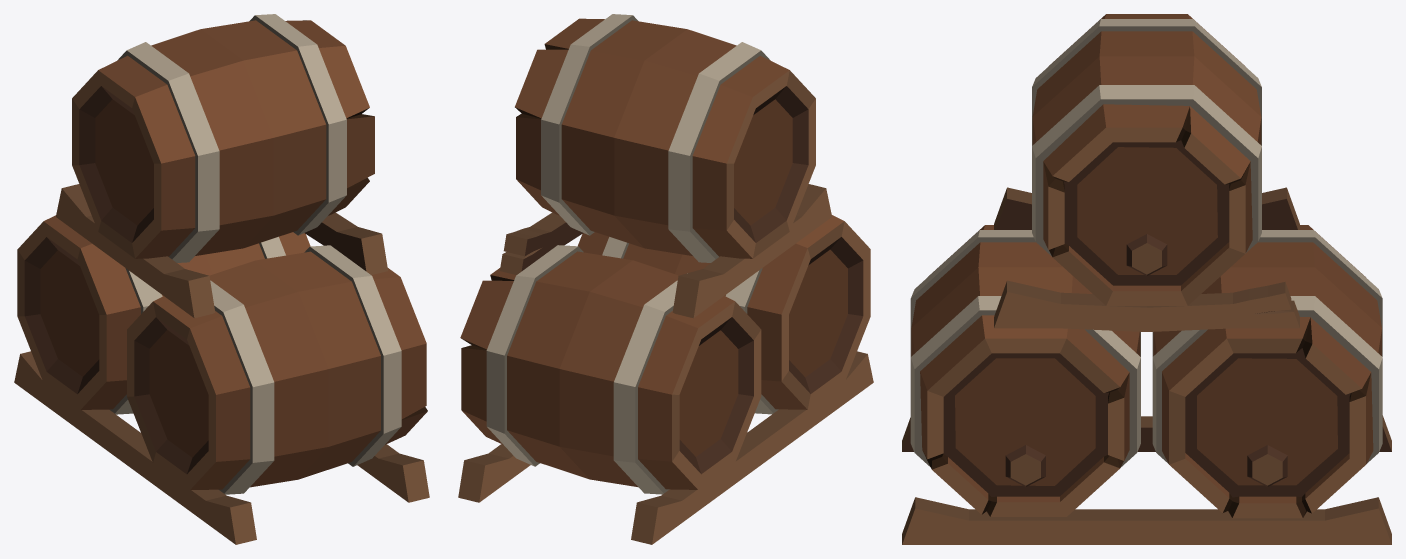
File: barrelstack.fbx
3 views of the same model, side by side, from view 1: azimuth 30°, elevation 25°; view 2: azimuth 150°, elevation 25°; view 3: azimuth 270°, elevation 25° (orthographic). The views are drawn at different scales.
Parts seen in each view (by area): view 1: barrelstack; view 2: barrelstack; view 3: barrelstack.
Part boxes in pixels (<box>): barrelstack: <box>14,14,429,544</box>; barrelstack: <box>458,14,873,544</box>; barrelstack: <box>902,14,1391,544</box>.
Bounding box in the file's own units: 102 × 180 × 182.
